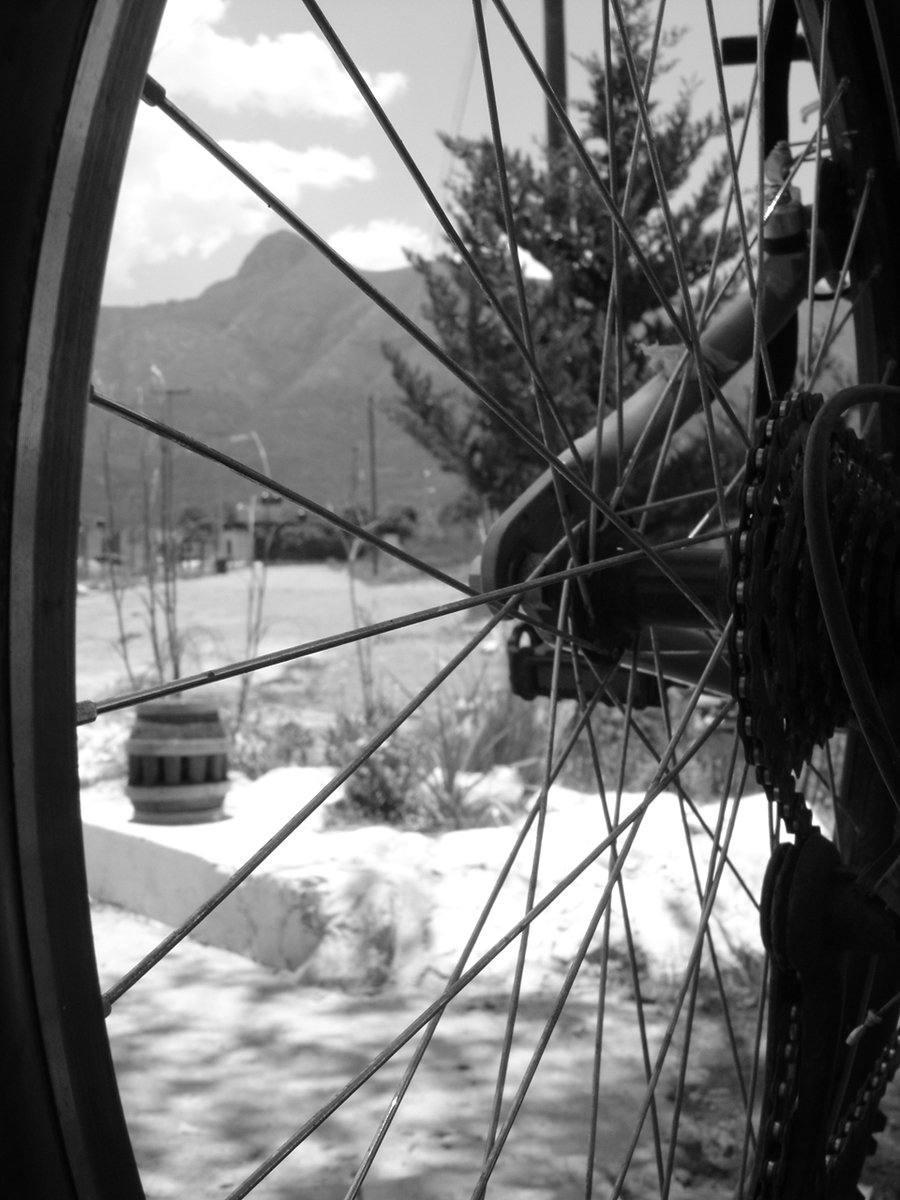Guitar: (46, 48, 836, 1113)
